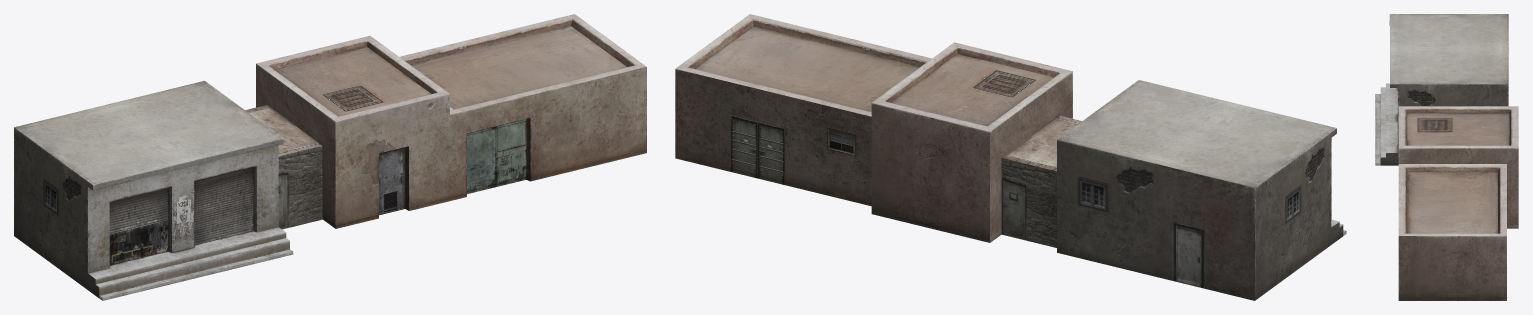
The model's file is buildings_14.FBX.
3 renders of one model, left to right at view 1: azimuth 30°, elevation 25°; view 2: azimuth 150°, elevation 25°; view 3: azimuth 270°, elevation 25°, orthographic. The views are drawn at different scales.
Parts seen in each view (by area): view 1: Box002; view 2: Box002; view 3: Box002.
Part boxes in pixels (bbox=[...]): Box002: bbox=[14, 14, 646, 300]; Box002: bbox=[675, 14, 1346, 300]; Box002: bbox=[1375, 14, 1518, 300].
Size of the model in its own units: 2314 by 682 by 430.
Materials: 1 (1 with a texture image).
